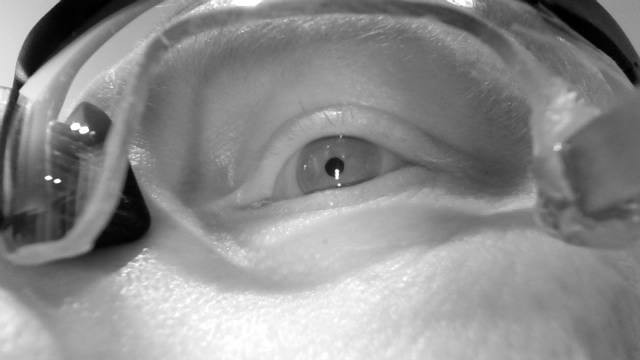pupil: (324, 156, 345, 177)
